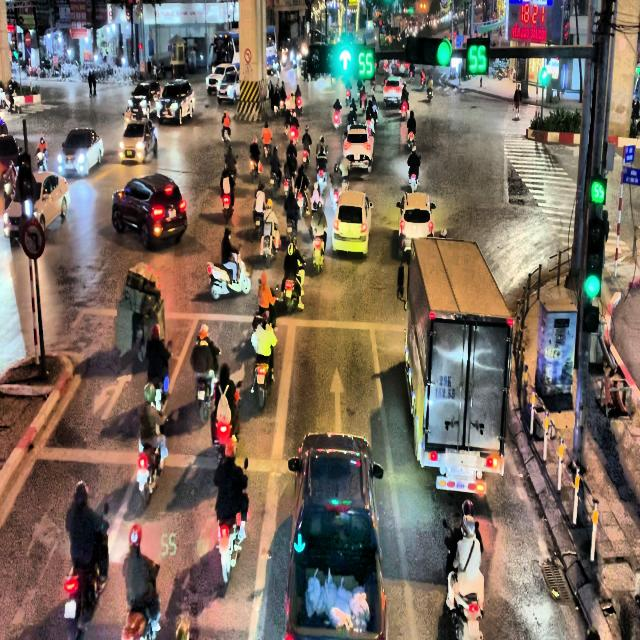lisence_plate: (436, 474, 486, 497), (434, 373, 455, 404), (166, 209, 176, 218), (354, 153, 362, 162), (347, 228, 353, 238)
